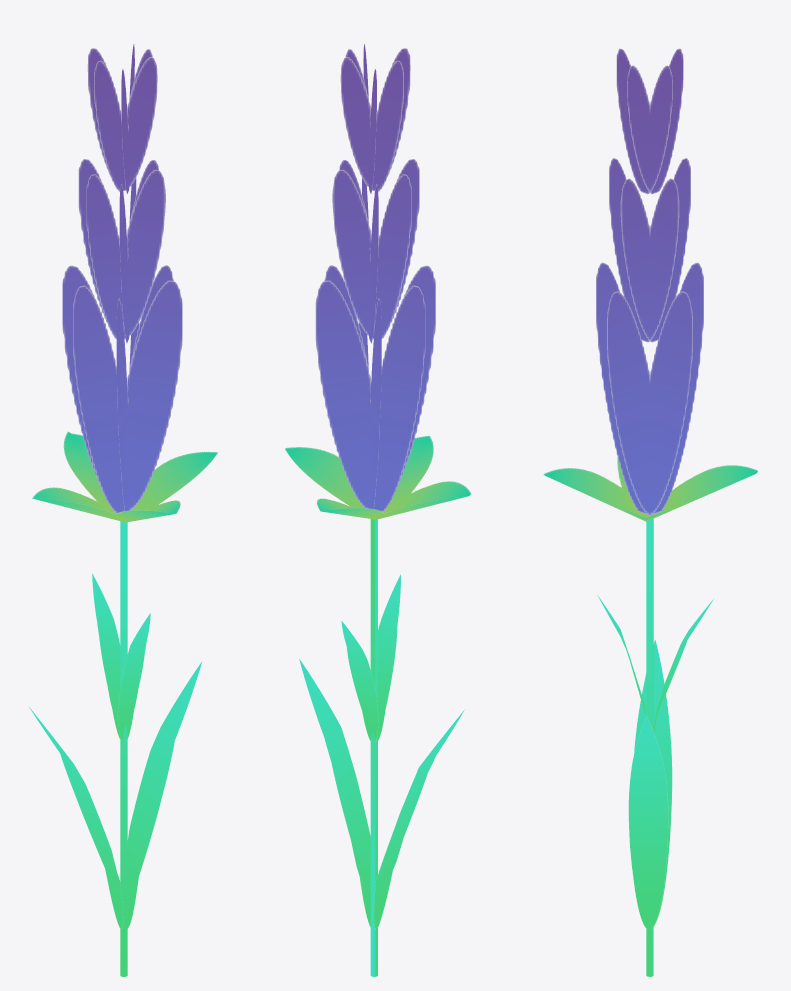
File: Flowers_n03_23.fbx
The picture shows the model from 3 angles, left to right: view 1: azimuth 30°, elevation 25°; view 2: azimuth 150°, elevation 25°; view 3: azimuth 270°, elevation 25°; orthographic projection.
Parts seen in each view (by area): view 1: polySurface642; view 2: polySurface642; view 3: polySurface642.
Boxes of the visible parts, left/top/right/bottom form: polySurface642: left=28, top=44, right=217, bottom=976; polySurface642: left=285, top=44, right=471, bottom=976; polySurface642: left=543, top=48, right=757, bottom=976.
Bounding box in the file's own units: 28.59 × 117 × 28.58.
Materials: 1 (1 with a texture image).
